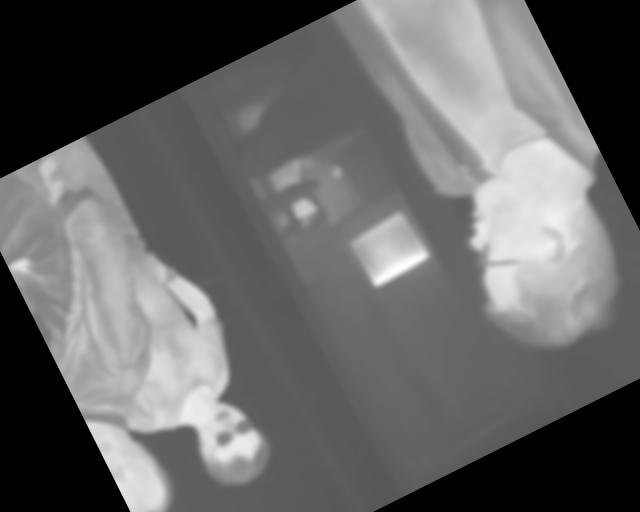face: (183, 390, 280, 497)
